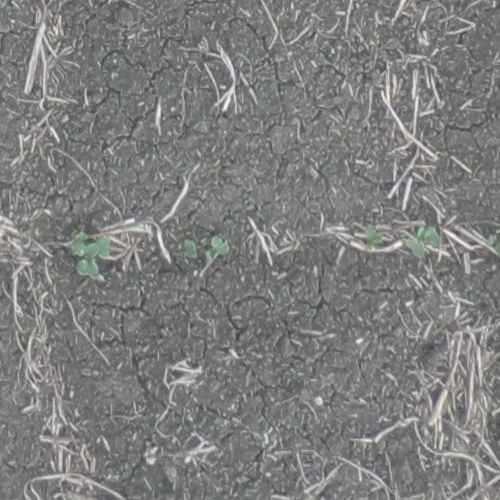isolated: (70, 232, 109, 277), (406, 226, 439, 257), (185, 237, 230, 259), (364, 224, 386, 252), (487, 226, 499, 259)
